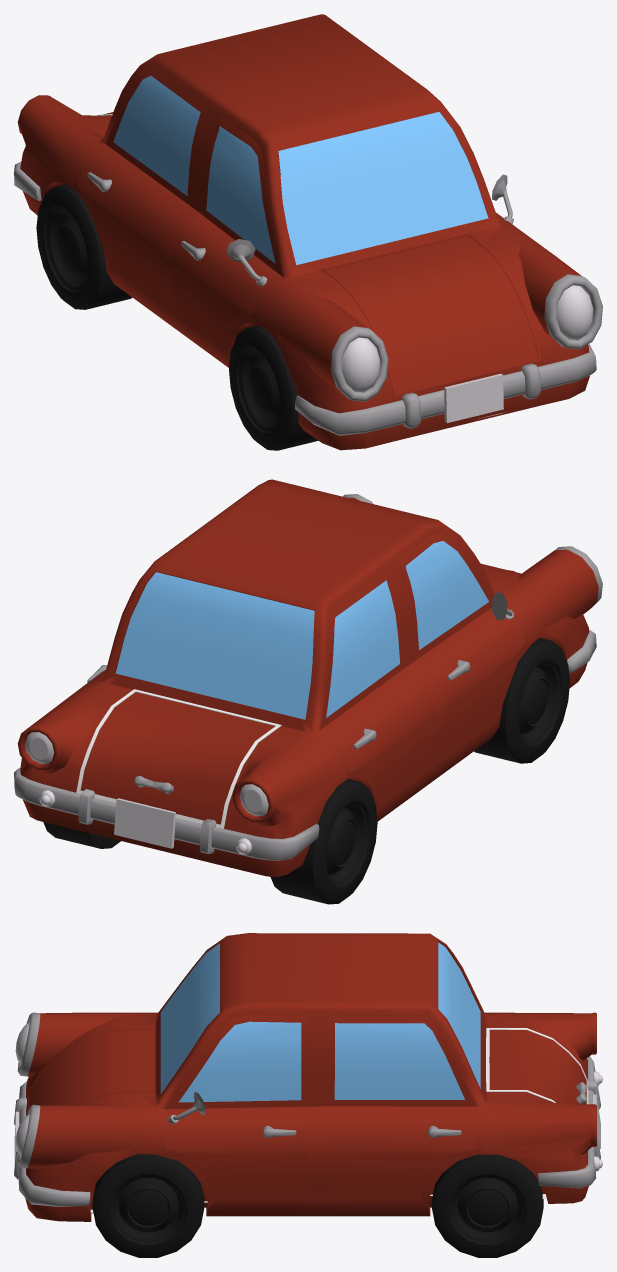
File: ClassicCar.fbx
The picture shows the model from 3 angles, top to bottom: view 1: azimuth 30°, elevation 25°; view 2: azimuth 150°, elevation 25°; view 3: azimuth 270°, elevation 25°; orthographic projection. The views are drawn at different scales.
Parts seen in each view (by area): view 1: ClassicCar2; view 2: ClassicCar2; view 3: ClassicCar2.
Part boxes in pixels (box(x1,y1,x2,y2)): ClassicCar2: box(14, 14, 602, 450); ClassicCar2: box(14, 479, 602, 904); ClassicCar2: box(14, 933, 602, 1257).
Size of the model in its own units: 0.2729 by 0.2405 by 0.5557.
